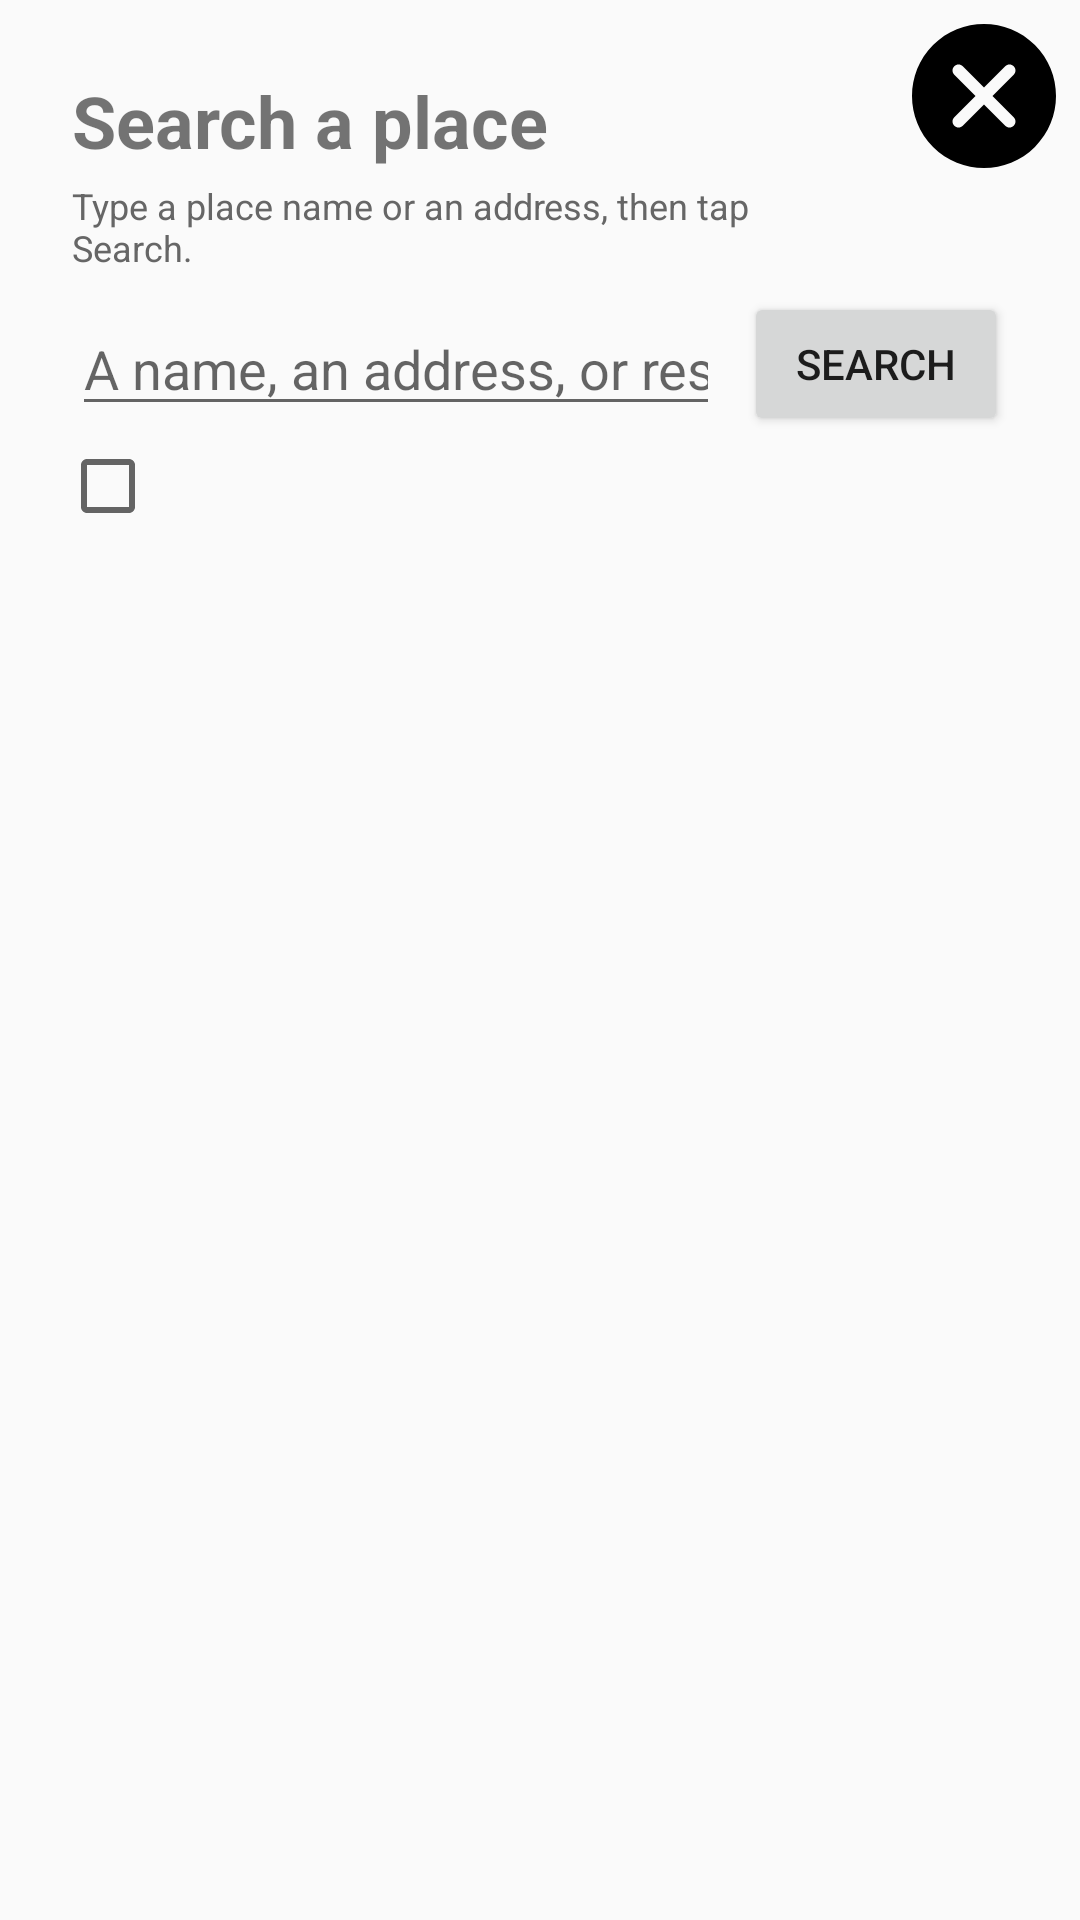

Icon bounding boxes for this 1080*1920 phone screenshot, format {"x1": x1, "y1": y1, "x2": x2, "y2": y2}:
cancel: {"x1": 912, "y1": 24, "x2": 1056, "y2": 168}
